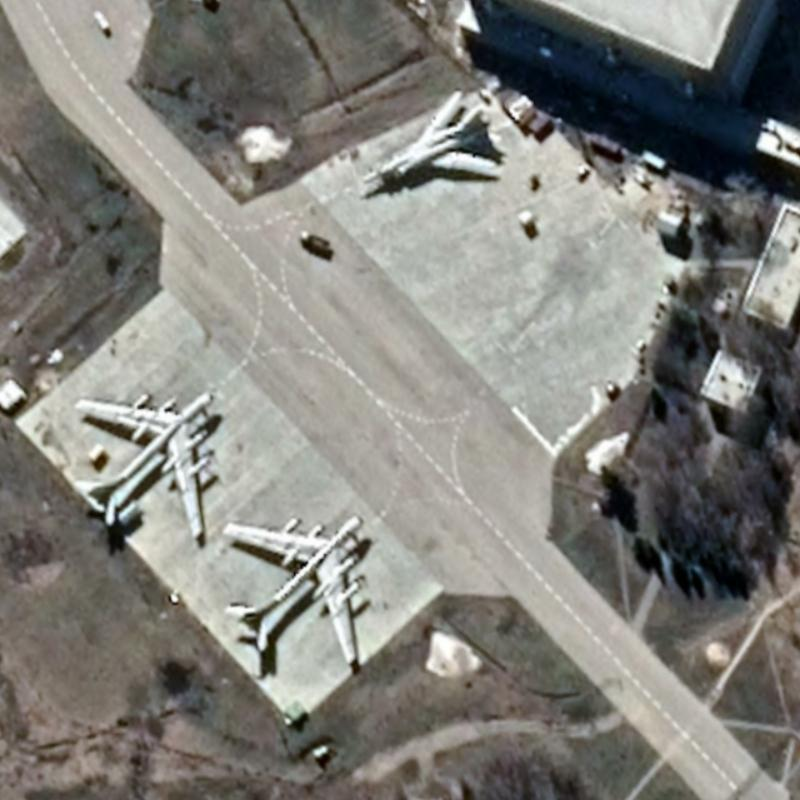A12: (359, 86, 501, 187)
A17: (69, 388, 215, 540), (219, 511, 363, 665)
